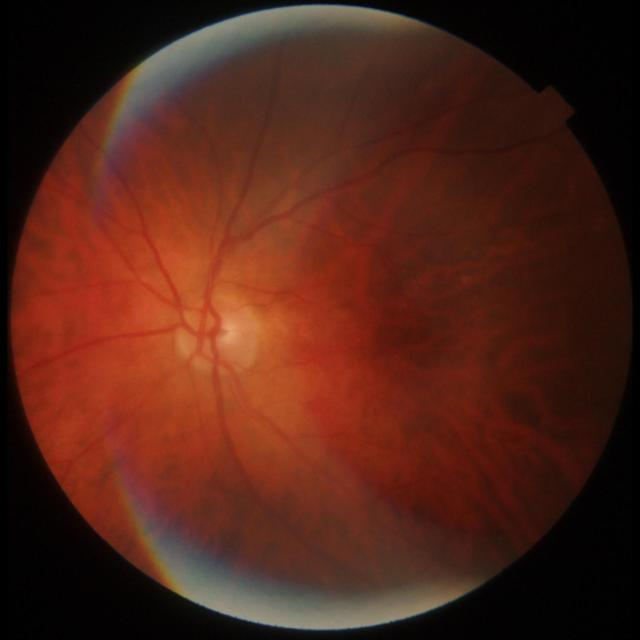OC: (215, 322, 239, 344)
OD: (176, 297, 259, 373)
